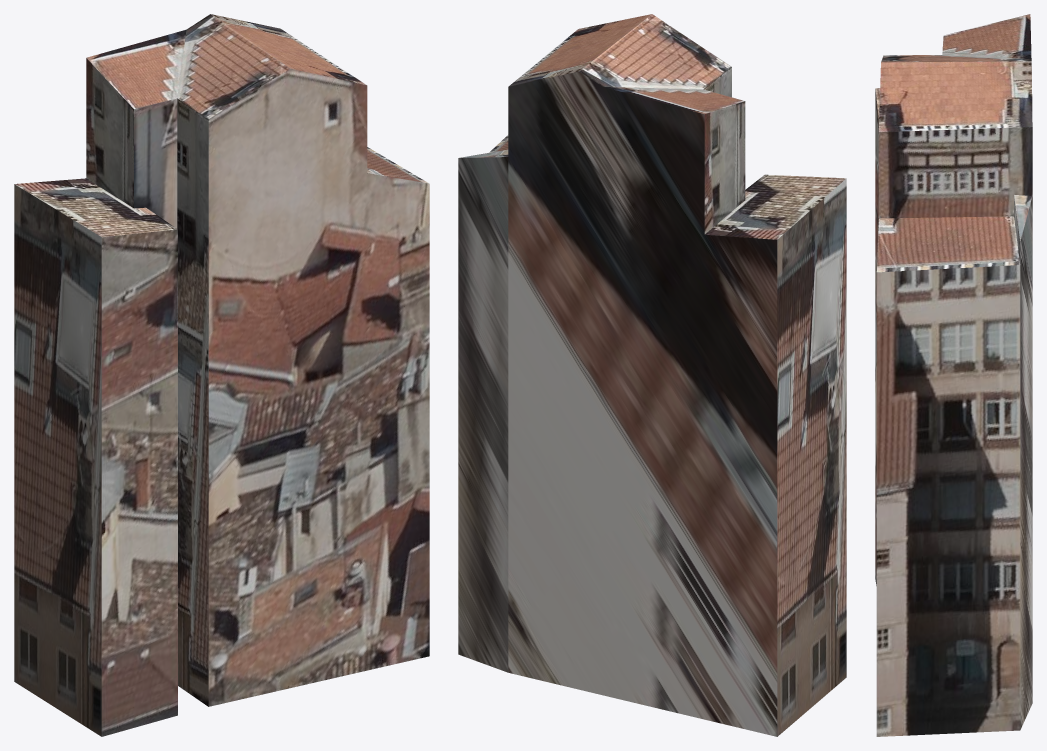
3 views of the same model, side by side, from view 1: azimuth 30°, elevation 25°; view 2: azimuth 150°, elevation 25°; view 3: azimuth 270°, elevation 25° (orthographic).
Parts seen in each view (by area): view 1: Z_UP; view 2: Z_UP; view 3: Z_UP.
Boxes of the visible parts, x1,y1,x2,y2 form: Z_UP: [14, 14, 429, 736]; Z_UP: [458, 14, 846, 736]; Z_UP: [875, 14, 1032, 736].
Size of the model in its own units: 15.48 by 27.14 by 6.35.
2 materials, 1 textured.
